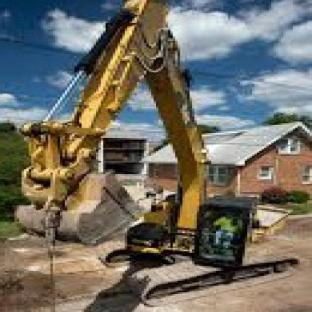ExcavationMachinery: (22, 9, 254, 282)
